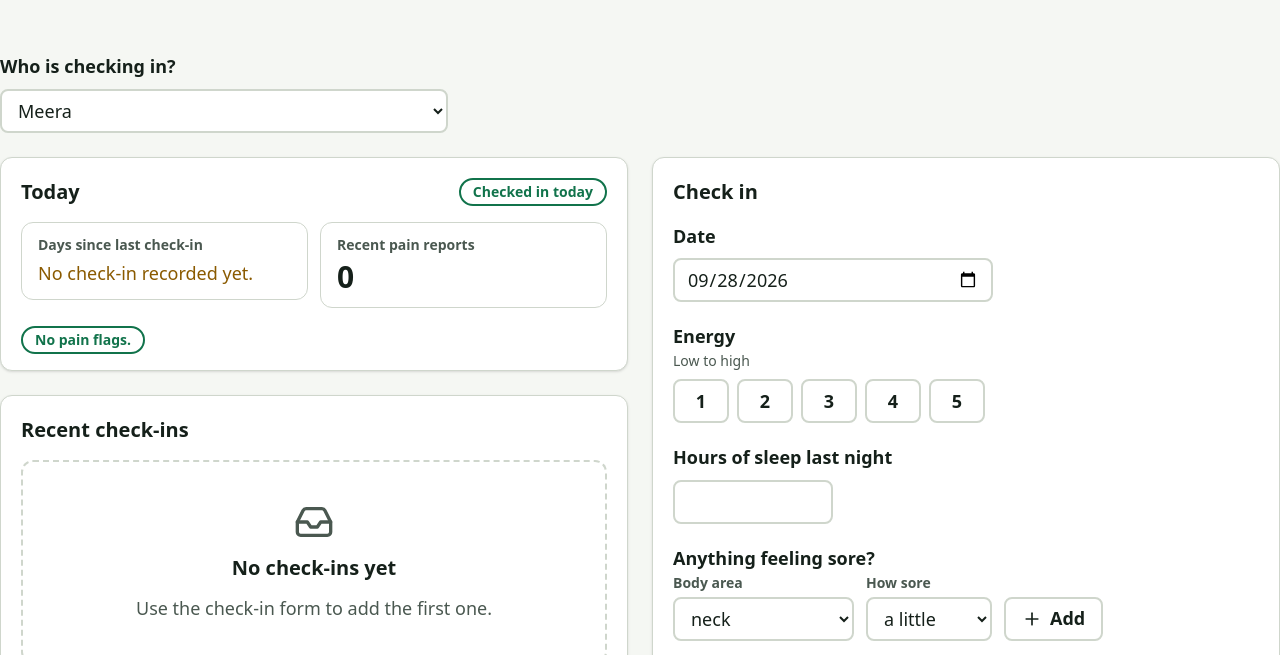
state and history (data parity) › says when a player has never checked in and switches players
Expected: the text "No check-in recorded yet." is shown, [38,259,291,287]
Expected: the text "No pain flags." is shown, [21,326,145,354]
Select "Arjun" in the dropdown labelled "Who is checking in?" at (224, 111), box [0,89,448,133]
(page scrolled)
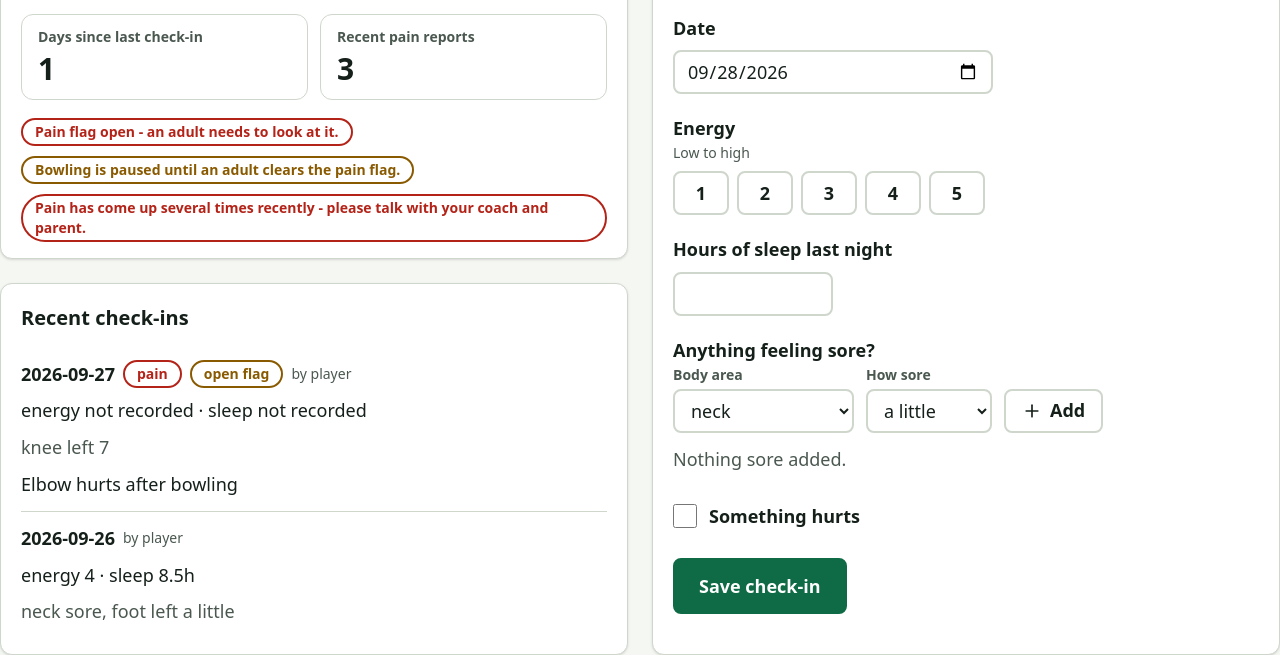
Result: the list item with test id "checkin-c2" is shown at [21,348,607,512]
